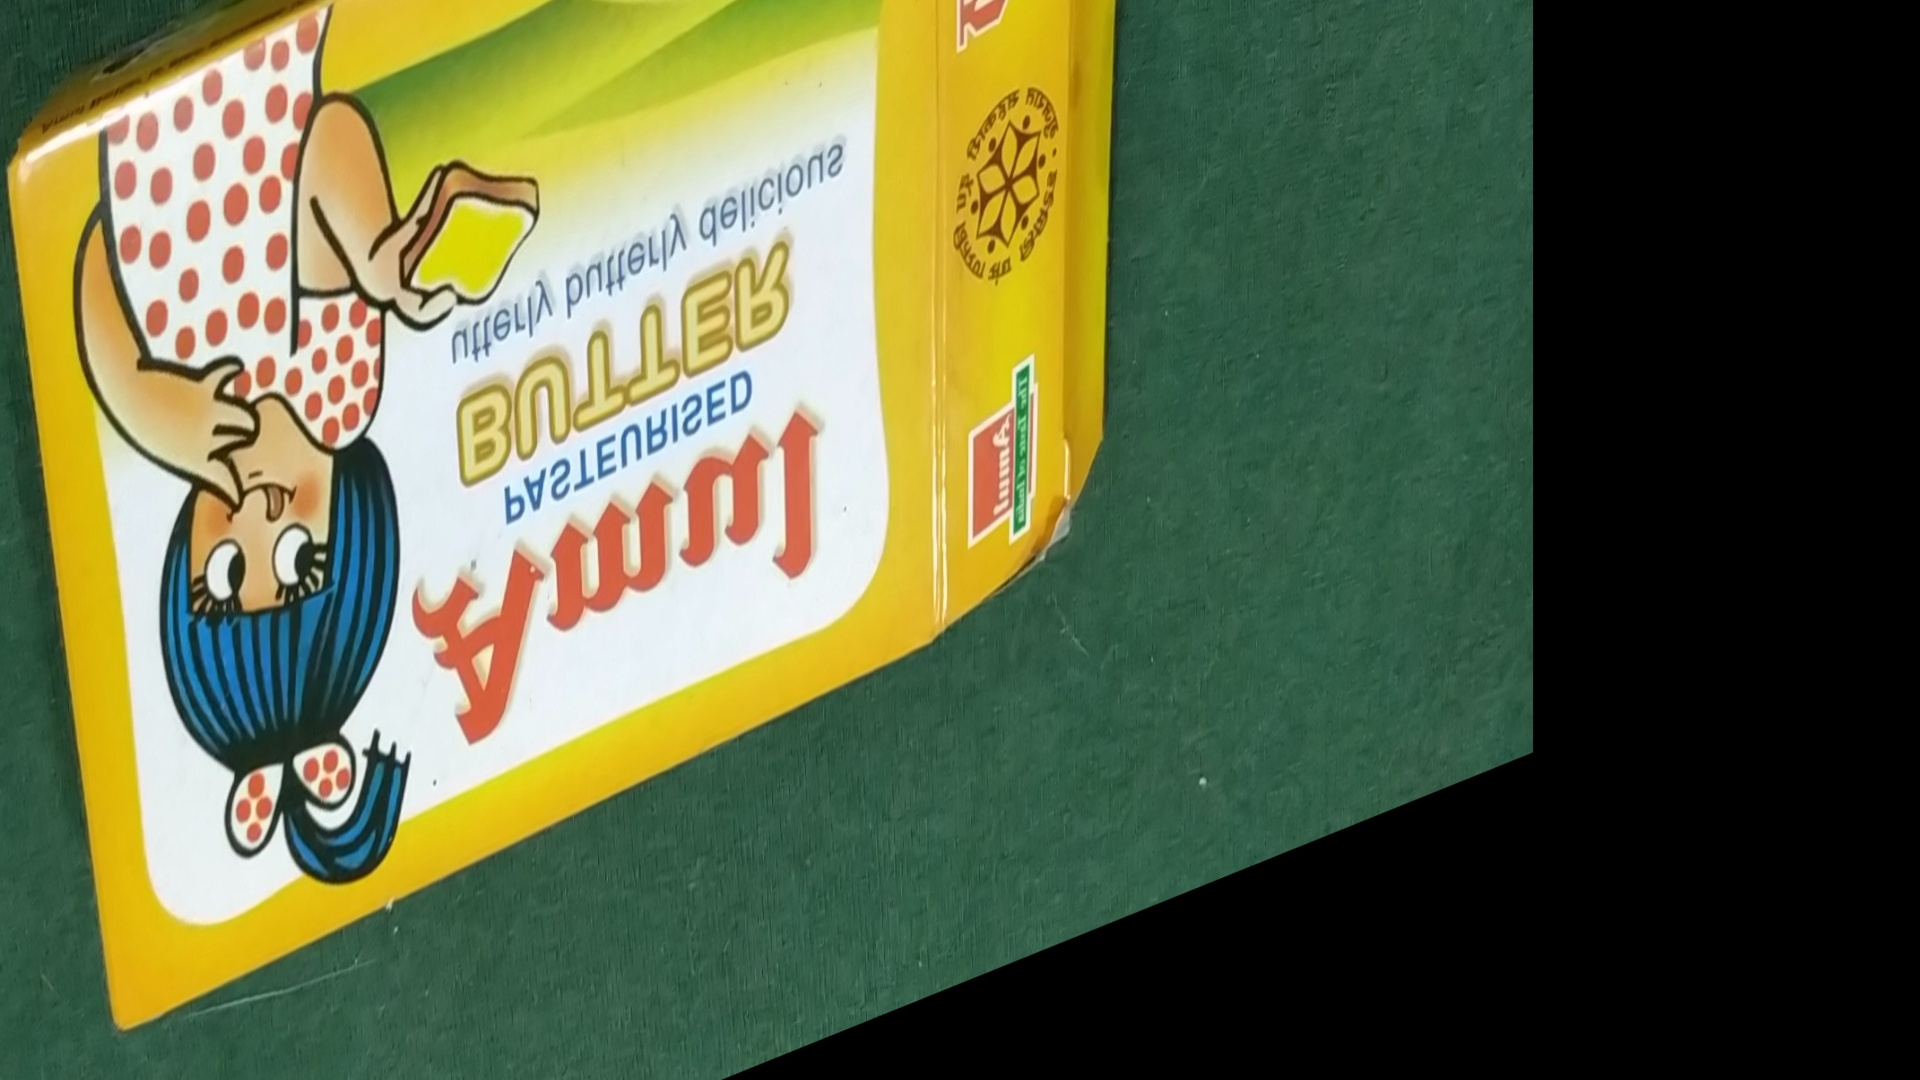amul_butter: (11, 11, 1118, 1069)
